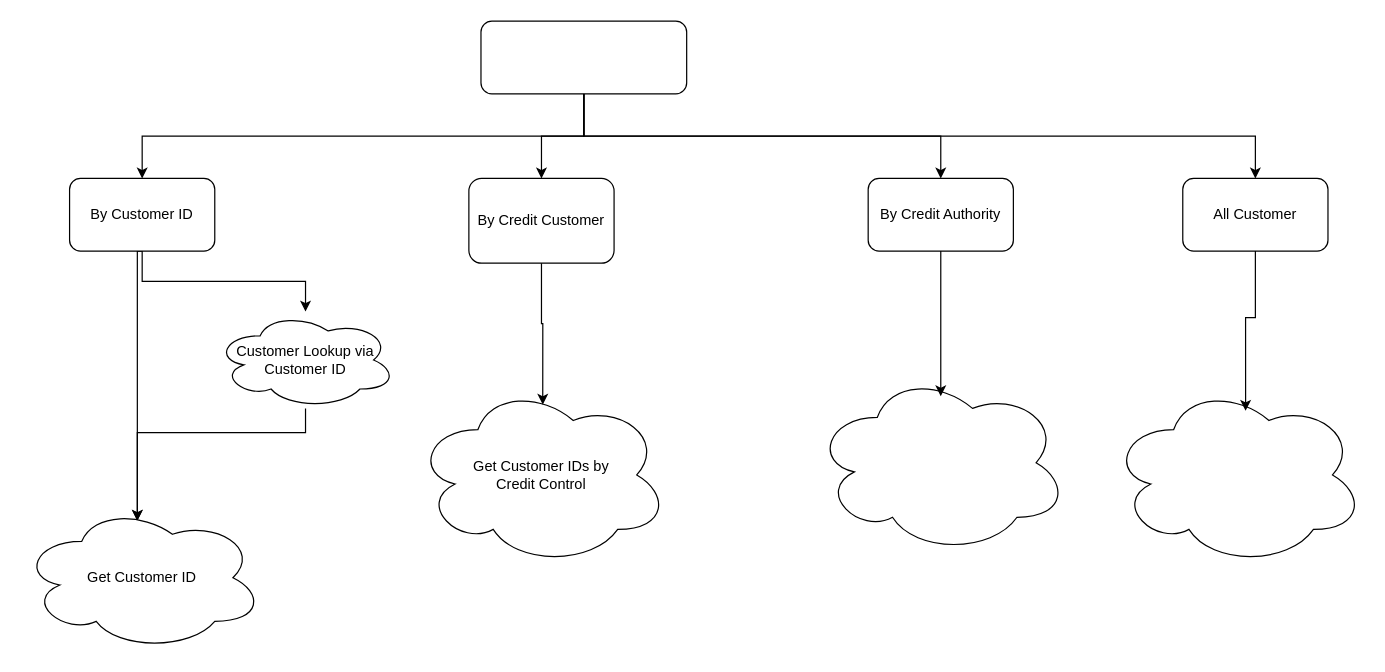
Image size: 1385x672. Some labels were removed from this diagram. Each missing label, with the centre of its shape:
"Customer Account" belongs at point 583,57.
"Get All Customer" belongs at point 1236,474.
"Get Customer ID by Credit Authority" belongs at point 940,462.
